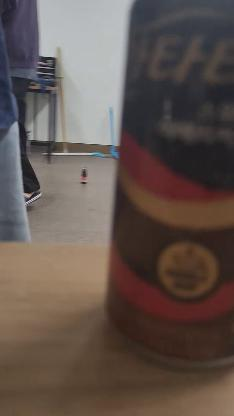Can: (110, 5, 234, 367)
